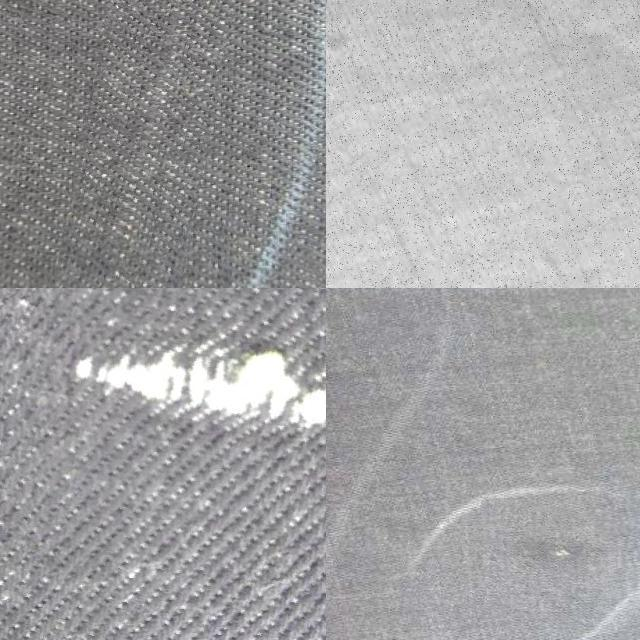stains: (0, 288, 326, 640), (76, 0, 260, 288), (464, 500, 614, 626)
